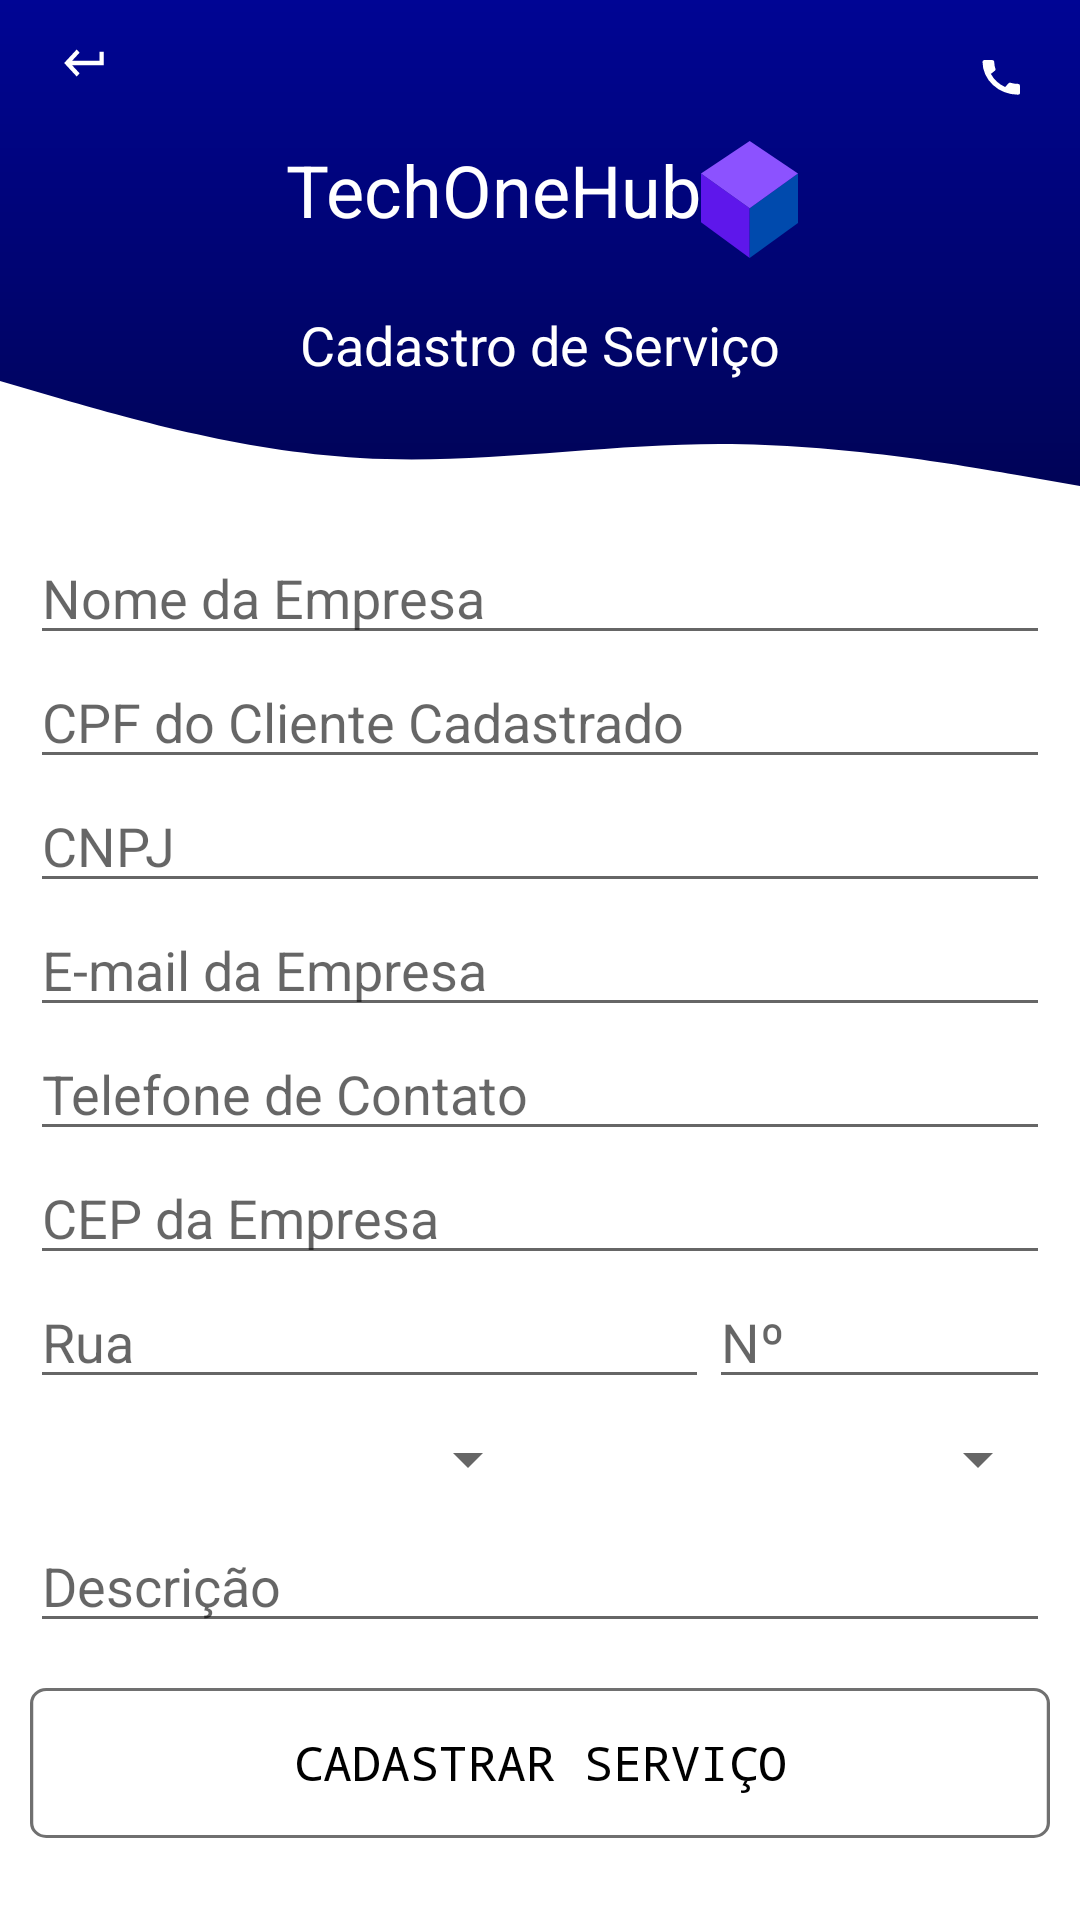

Icons on this 1080x1920 Android screen, each with its box as (x1, y1, x2, y2):
back: (64, 49, 104, 77)
call: (982, 60, 1020, 95)
